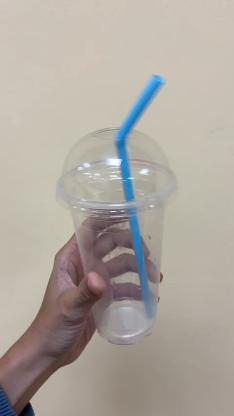Plastic Cup: (55, 125, 177, 349)
